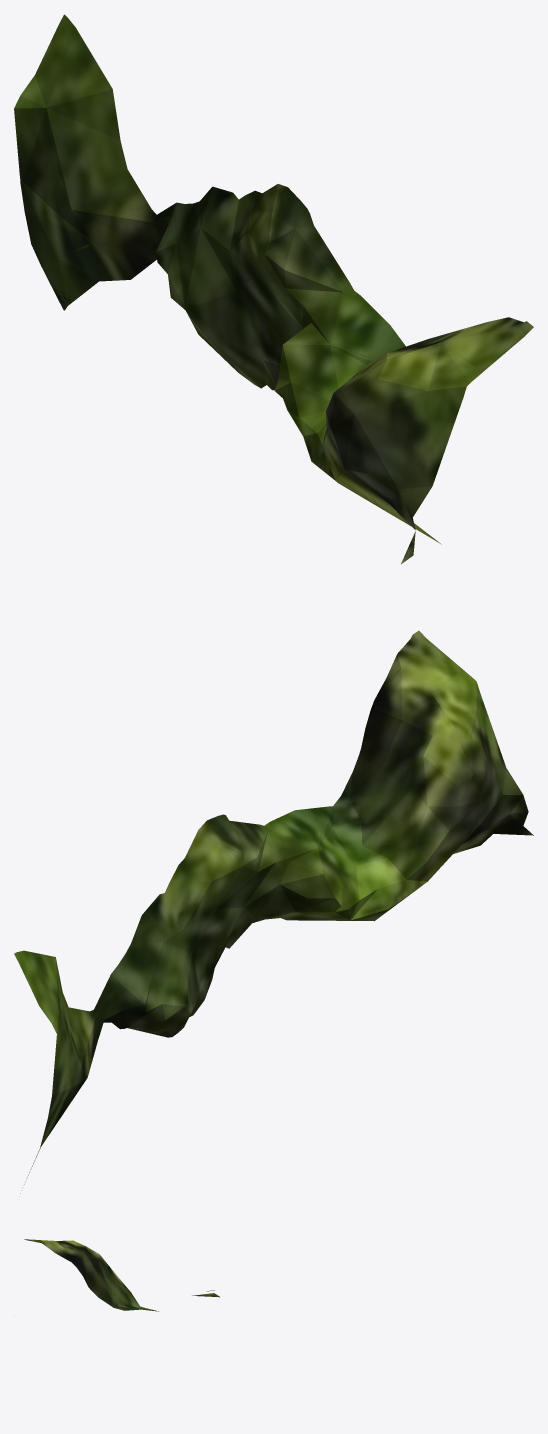
The picture shows the model from 3 angles, top to bottom: view 1: azimuth 30°, elevation 25°; view 2: azimuth 150°, elevation 25°; view 3: azimuth 270°, elevation 25°; orthographic projection. The views are drawn at different scales.
Size of the model in its own units: 0.2816 by 0.6457 by 1.67.
1 material, 1 textured.
